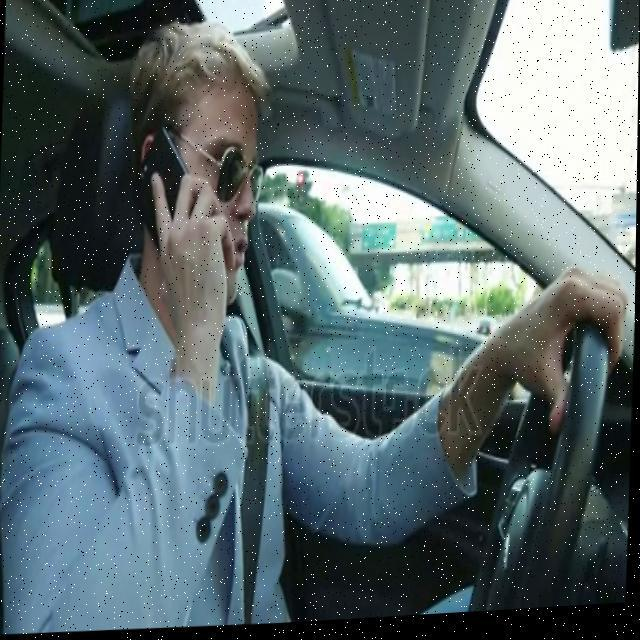PhoneCall: (129, 130, 211, 282)
